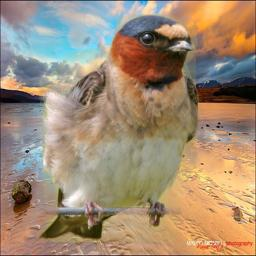Swallow: (37, 14, 204, 242)
